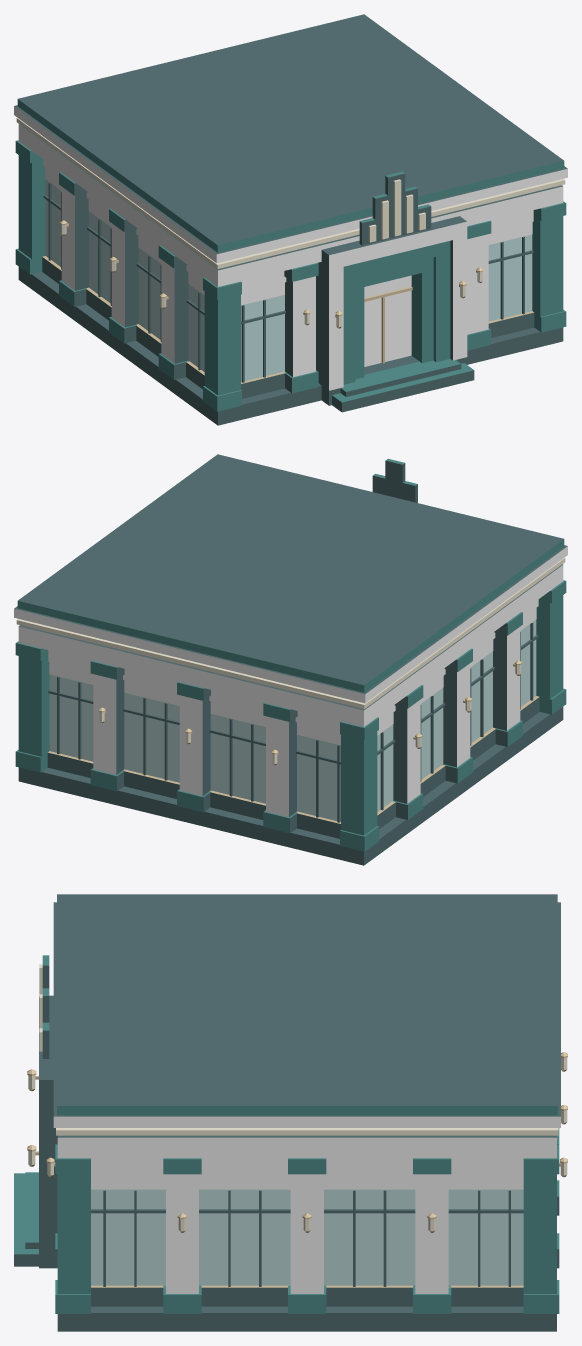
Rendered from KC32__AD_Ext_Bldg_Base_Violet.glb.
3 renders of one model, top to bottom at view 1: azimuth 30°, elevation 25°; view 2: azimuth 150°, elevation 25°; view 3: azimuth 270°, elevation 25°, orthographic. The views are drawn at different scales.
Visible parts, largest first — view 1: KC32_CORPS__AD_Ext_Bldg_Base_Violet, KC32_ACCENT__AD_Ext_Bldg_Base_Violet, KC32_VITRAGE__AD_Ext_Bldg_Base_Violet, KC32_LUMIERE__AD_Ext_Bldg_Base_Violet, KC32_BRONZE__AD_Ext_Bldg_Base_Violet; view 2: KC32_CORPS__AD_Ext_Bldg_Base_Violet, KC32_ACCENT__AD_Ext_Bldg_Base_Violet, KC32_VITRAGE__AD_Ext_Bldg_Base_Violet, KC32_LUMIERE__AD_Ext_Bldg_Base_Violet, KC32_BRONZE__AD_Ext_Bldg_Base_Violet; view 3: KC32_CORPS__AD_Ext_Bldg_Base_Violet, KC32_ACCENT__AD_Ext_Bldg_Base_Violet, KC32_VITRAGE__AD_Ext_Bldg_Base_Violet, KC32_LUMIERE__AD_Ext_Bldg_Base_Violet, KC32_BRONZE__AD_Ext_Bldg_Base_Violet.
Part boxes in pixels (left/top/right/bottom): KC32_CORPS__AD_Ext_Bldg_Base_Violet: left=14, top=14, right=567, bottom=425; KC32_ACCENT__AD_Ext_Bldg_Base_Violet: left=14, top=106, right=567, bottom=390; KC32_VITRAGE__AD_Ext_Bldg_Base_Violet: left=45, top=180, right=532, bottom=381; KC32_LUMIERE__AD_Ext_Bldg_Base_Violet: left=16, top=118, right=565, bottom=327; KC32_BRONZE__AD_Ext_Bldg_Base_Violet: left=42, top=220, right=533, bottom=383; KC32_CORPS__AD_Ext_Bldg_Base_Violet: left=14, top=454, right=567, bottom=865; KC32_ACCENT__AD_Ext_Bldg_Base_Violet: left=14, top=546, right=567, bottom=817; KC32_VITRAGE__AD_Ext_Bldg_Base_Violet: left=49, top=620, right=536, bottom=821; KC32_LUMIERE__AD_Ext_Bldg_Base_Violet: left=16, top=558, right=565, bottom=763; KC32_BRONZE__AD_Ext_Bldg_Base_Violet: left=48, top=660, right=539, bottom=823; KC32_CORPS__AD_Ext_Bldg_Base_Violet: left=14, top=894, right=560, bottom=1331; KC32_ACCENT__AD_Ext_Bldg_Base_Violet: left=53, top=1116, right=560, bottom=1293; KC32_VITRAGE__AD_Ext_Bldg_Base_Violet: left=91, top=1189, right=523, bottom=1285; KC32_LUMIERE__AD_Ext_Bldg_Base_Violet: left=28, top=964, right=567, bottom=1231; KC32_BRONZE__AD_Ext_Bldg_Base_Violet: left=27, top=1052, right=567, bottom=1287.
Bounding box in the file's own units: 12.53 × 7.05 × 13.32.
